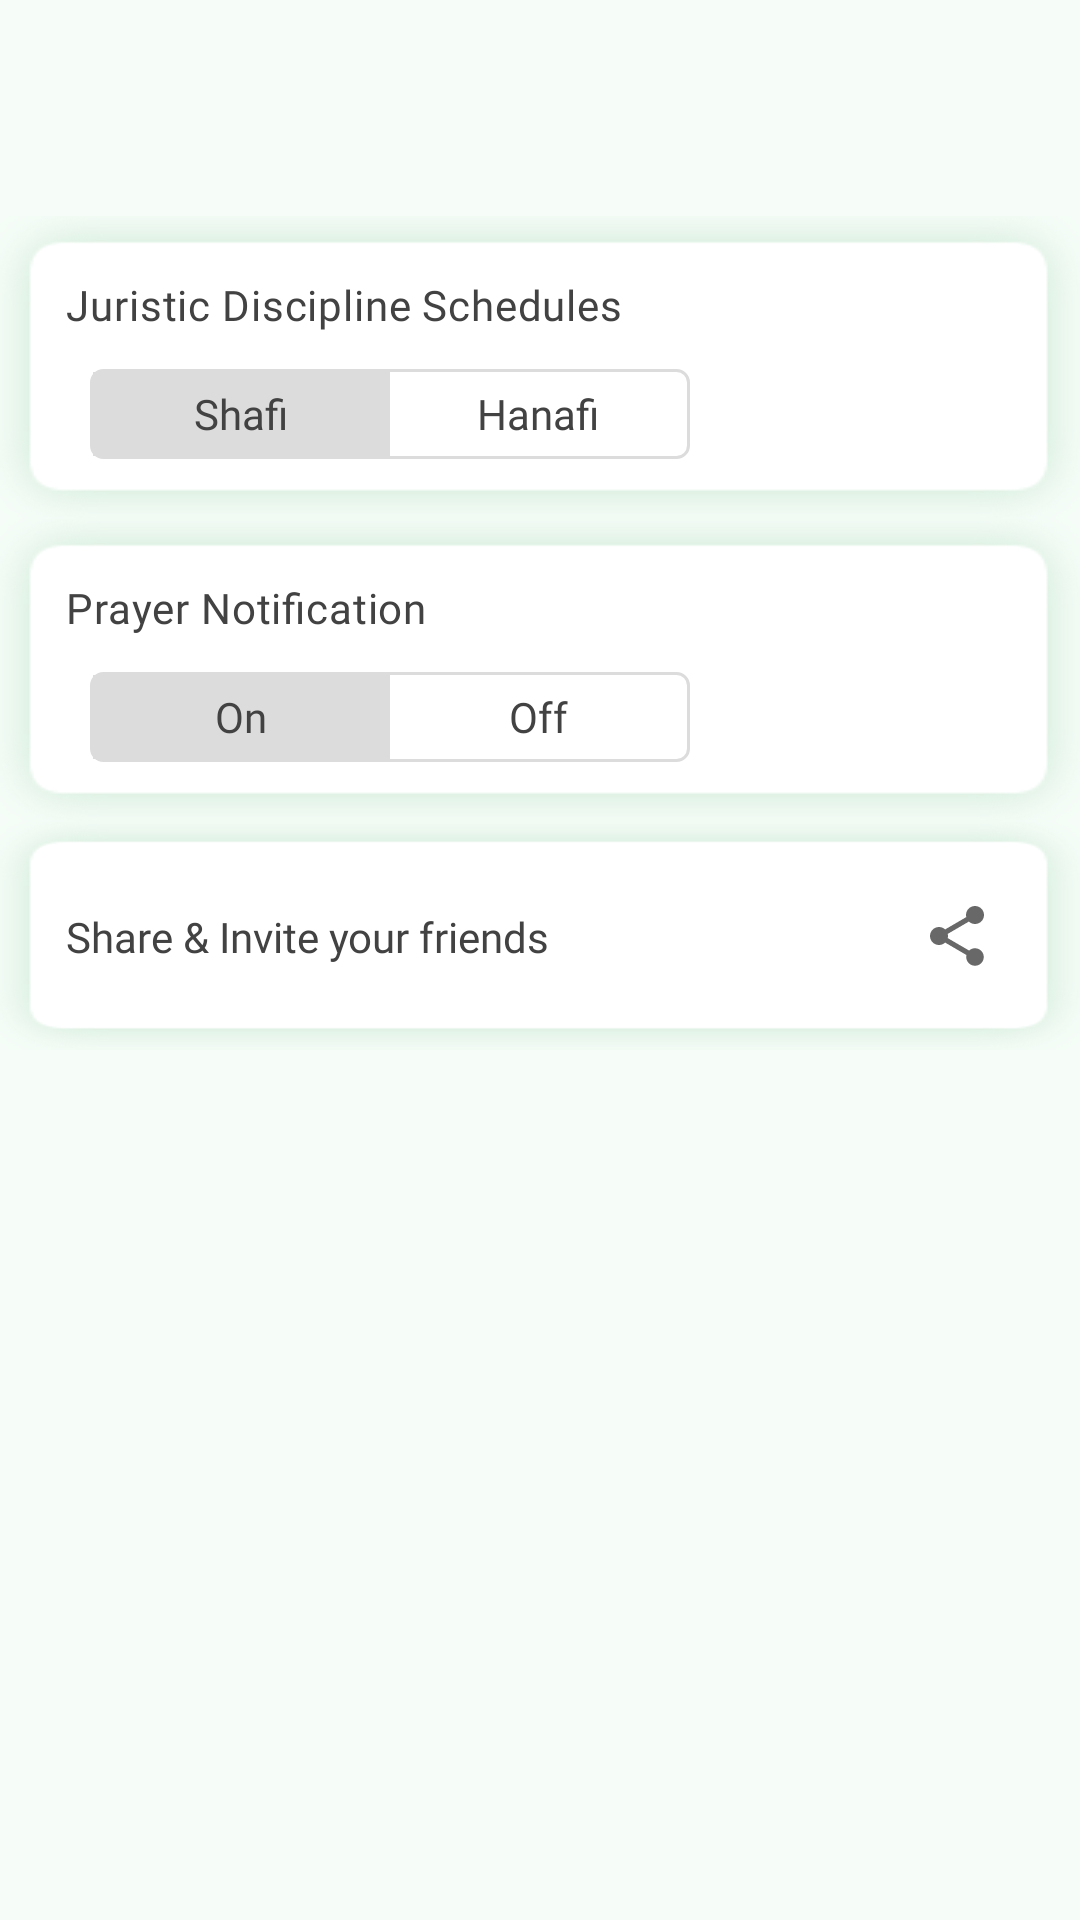

Where to tap for icons on this 1080w x 1920h app screen, as (x=x, y=y):
share: (x=957, y=936)
